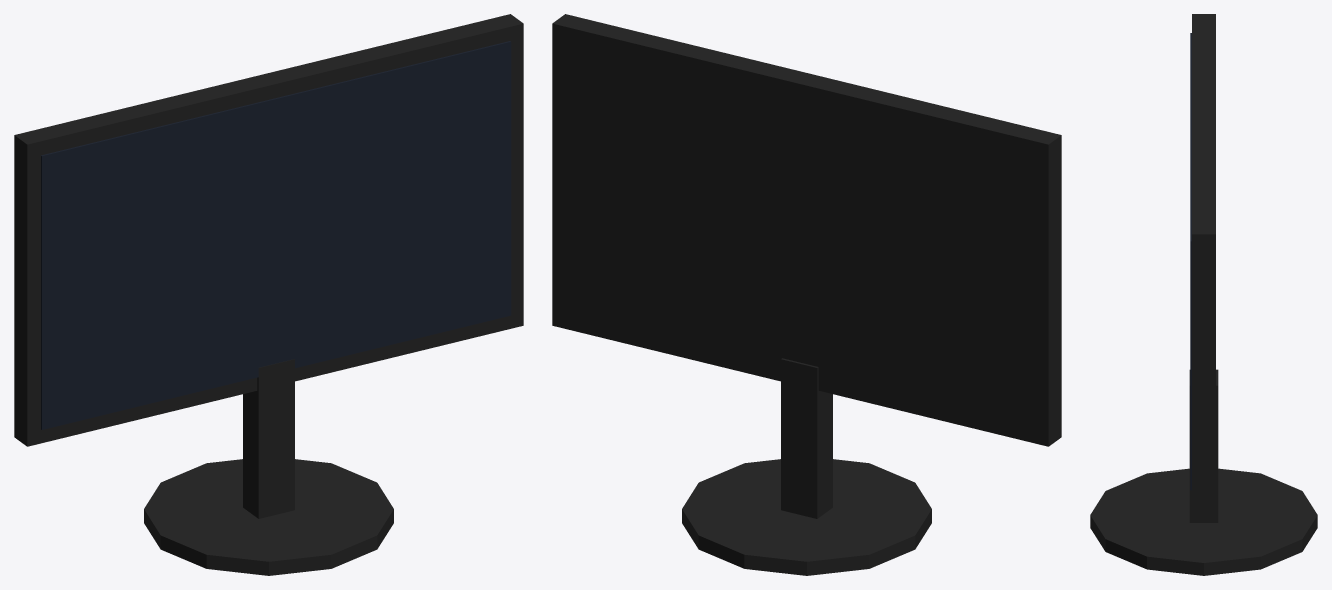
File: monitor.obj
3 renders of one model, left to right at view 1: azimuth 30°, elevation 25°; view 2: azimuth 150°, elevation 25°; view 3: azimuth 270°, elevation 25°, orthographic. The views are drawn at different scales.
Parts seen in each view (by area): view 1: monitor; view 2: monitor; view 3: monitor.
Part boxes in pixels (x1=…): monitor: x1=14, y1=14, x2=523, y2=575; monitor: x1=552, y1=14, x2=1061, y2=575; monitor: x1=1090, y1=14, x2=1317, y2=575.
Bounding box in the file's own units: 0.55 × 0.47 × 0.24.
